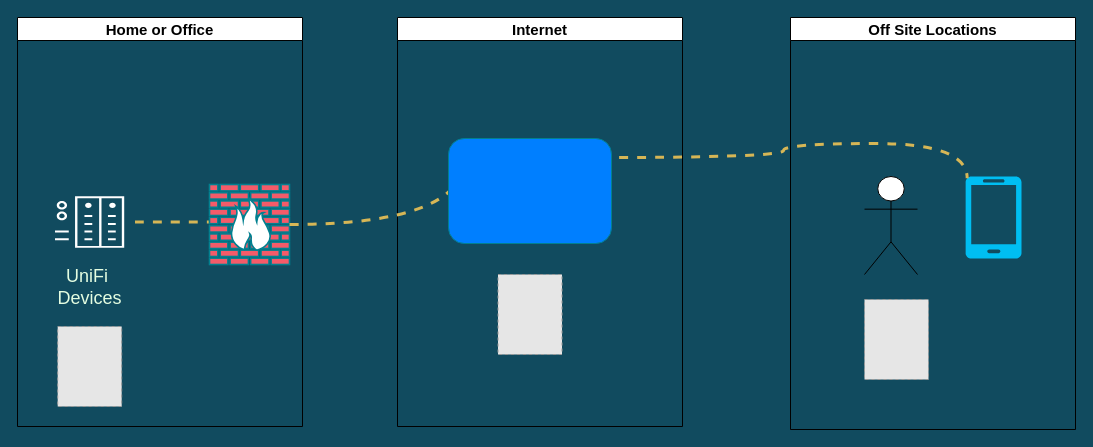
The diagram is 1093 pixels wide and 447 high, and some of its shapes have lost their labels. Grey dashed boxes stand in for pictures. The shapes that lost their labels are listed below. From the top down, each one's centre as x and y in pixels, then its label:
[530,191]: Ubiquiti Servers unifi.ui.com
[249,224]: Firewall Public IP & Open Ports
